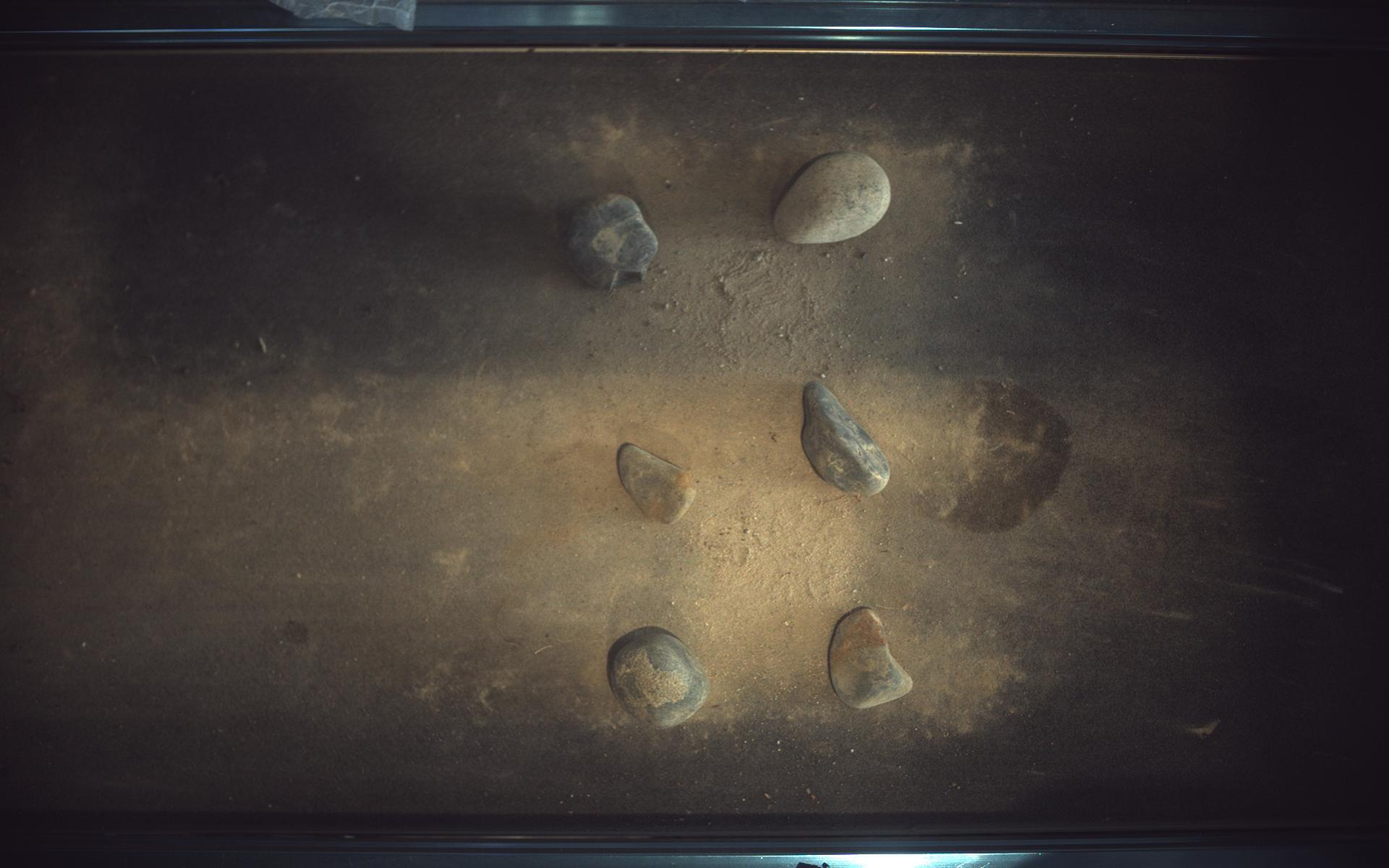stone: (775, 151, 893, 243), (802, 380, 892, 496), (609, 628, 710, 729), (563, 193, 659, 289), (830, 608, 914, 710), (618, 443, 697, 524)
